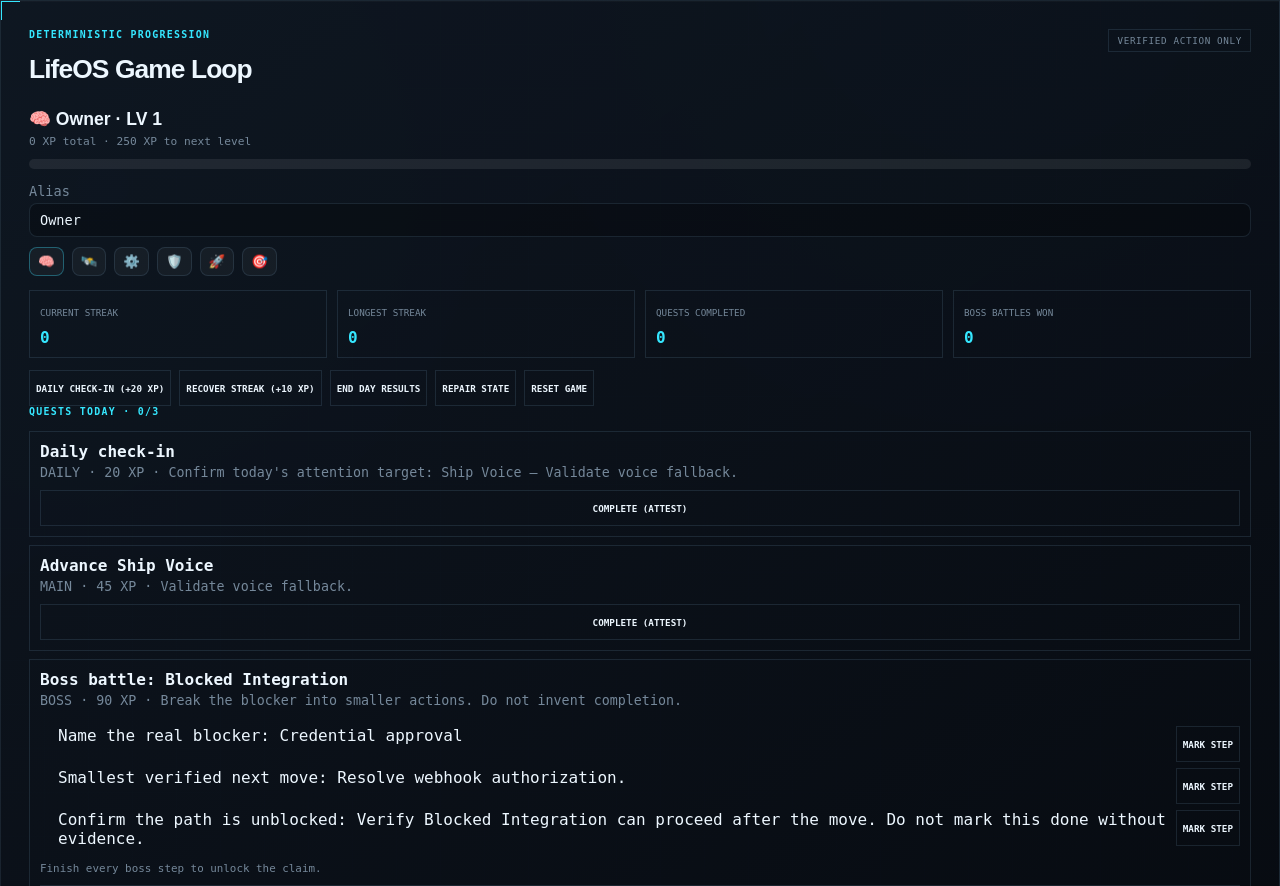
Test: GameLoopWidget feedback and safety › announces the XP awarded for a completed quest
The image size is (1280, 886).
Click the button "Complete (attest)" below "Advance Ship Voice".
click(640, 622)  # box [40,604,1240,640]
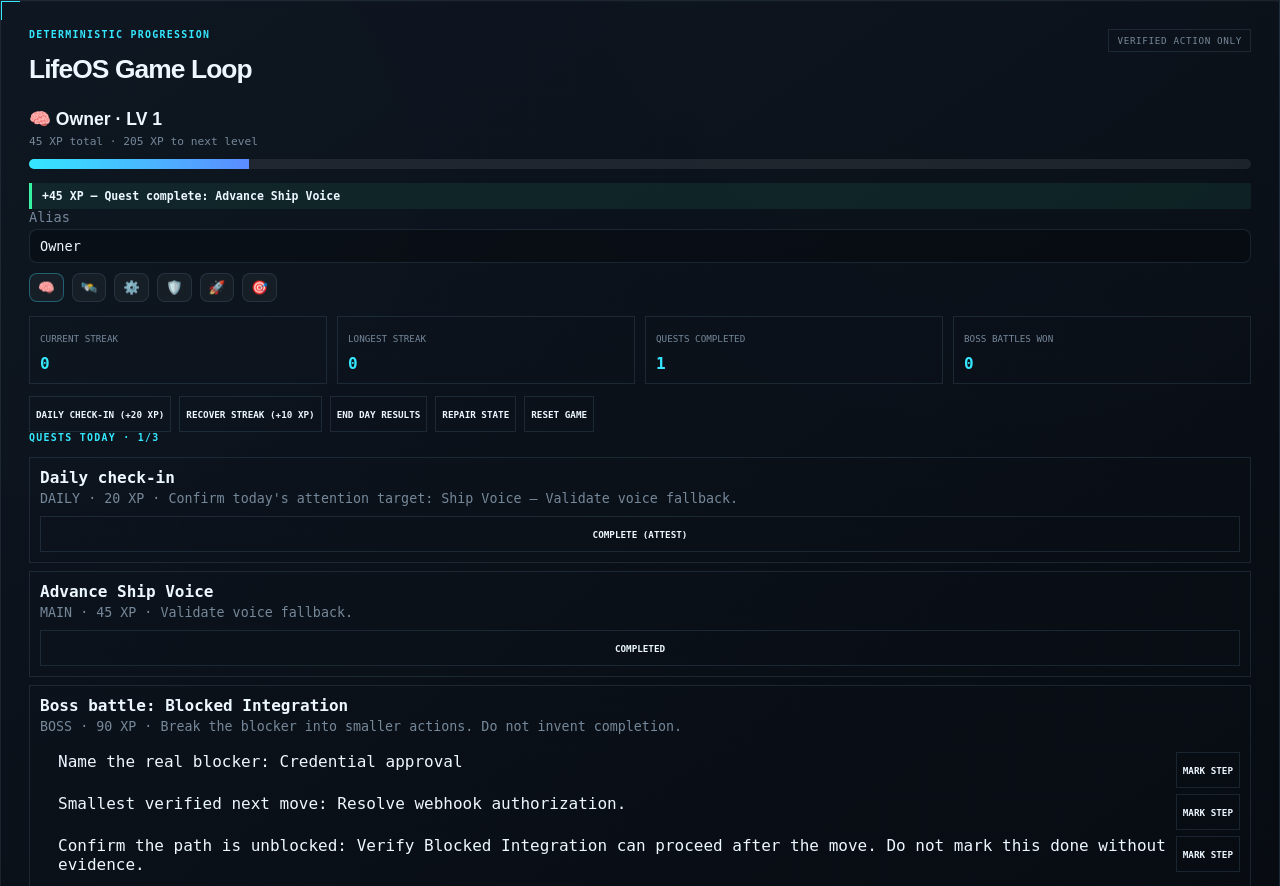
Expected: the message does not show "level up", [29,183,1251,209]
Result: the message reads "+45 XP — Quest complete: Advance Ship Voice" at [42,189,340,203]
